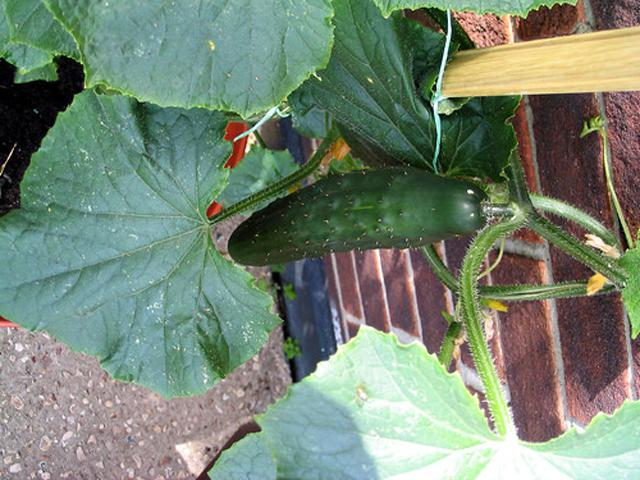cucumber: (227, 168, 486, 269)
